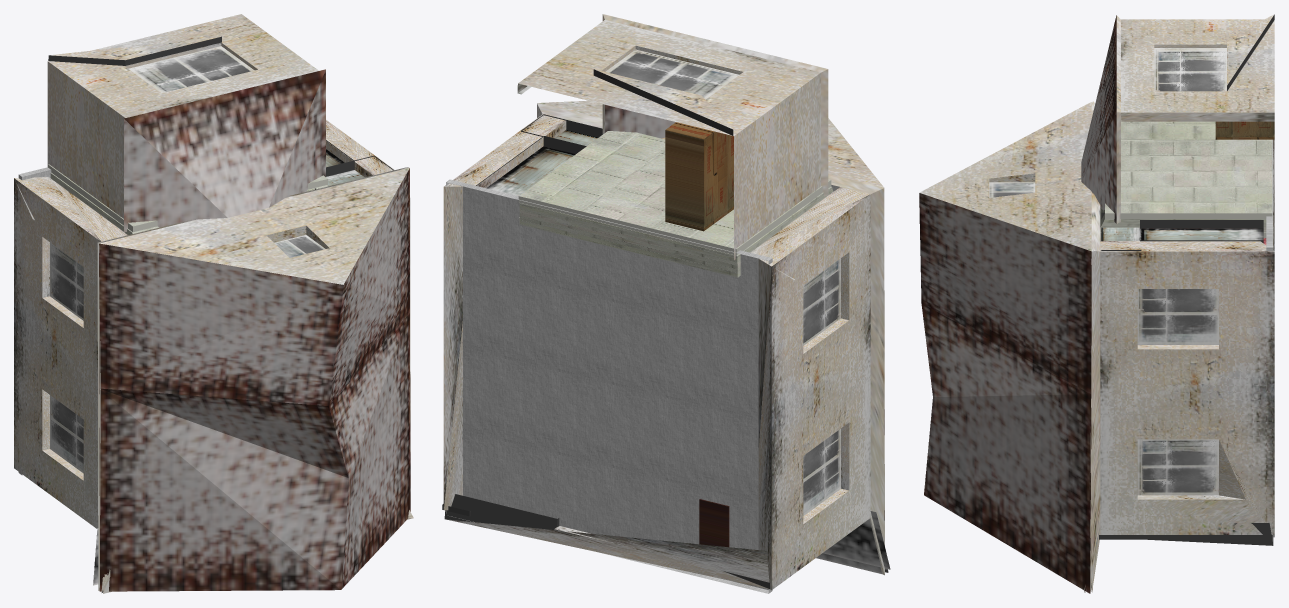
The model's file is domicileinterior_wtf.obj.
The picture shows the model from 3 angles, left to right: view 1: azimuth 30°, elevation 25°; view 2: azimuth 150°, elevation 25°; view 3: azimuth 270°, elevation 25°; orthographic projection. The views are drawn at different scales.
Parts seen in each view (by area): view 1: group9, group25, group24, group15, group23; view 2: group25, group18, group15, group5, group23, group9, group24, group17, group21, group12, group16; view 3: group25, group9, group15, group17, group24, group5, group20, group16, group23.
Boxes of the visible parts, x1,y1,x2,y2 form: group9: (99, 167, 413, 593); group25: (14, 14, 408, 592); group24: (48, 36, 221, 65); group15: (48, 164, 328, 232); group23: (50, 172, 327, 234); group25: (443, 14, 887, 590); group18: (446, 179, 772, 593); group15: (518, 131, 831, 255); group5: (665, 122, 733, 231); group23: (519, 186, 833, 277); group9: (537, 100, 888, 573); group24: (556, 69, 769, 588); group17: (476, 136, 586, 195); group21: (823, 511, 890, 569); group12: (699, 499, 729, 547); group16: (521, 114, 602, 153); group25: (1081, 15, 1274, 592); group9: (919, 102, 1093, 593); group15: (1100, 120, 1272, 238); group17: (1140, 220, 1263, 243); group24: (1227, 14, 1274, 90); group5: (1215, 121, 1274, 139); group20: (1099, 535, 1272, 539); group16: (1101, 212, 1141, 250); group23: (1100, 208, 1266, 232).
Size of the model in its own units: 478 by 660 by 472.
